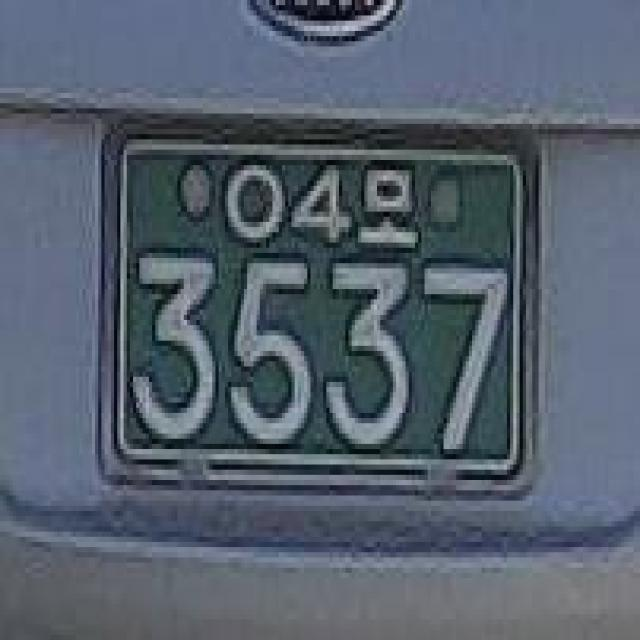illegal_plate: (85, 96, 552, 519)
